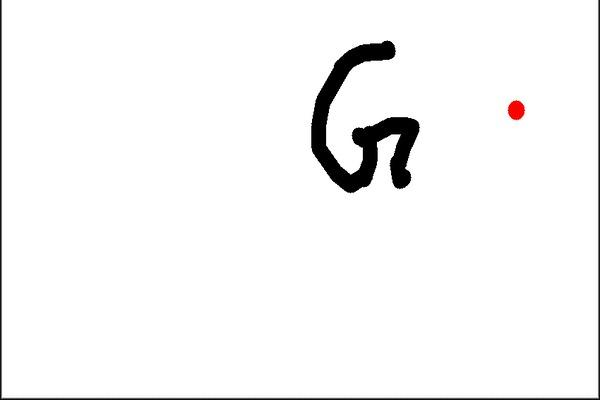G: (304, 36, 424, 197)
